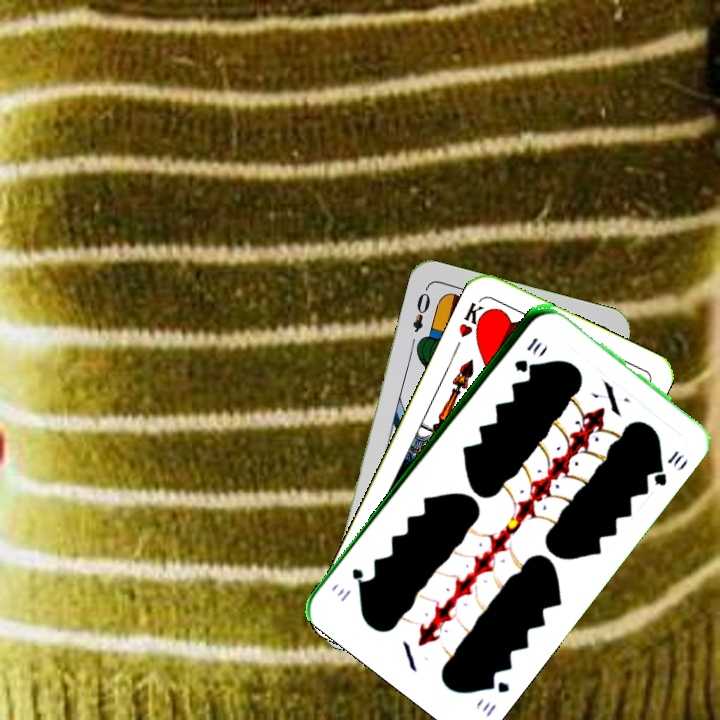EO: (408, 283, 433, 335)
G10: (478, 672, 512, 719), (510, 333, 544, 374)
HK: (454, 296, 492, 340)
